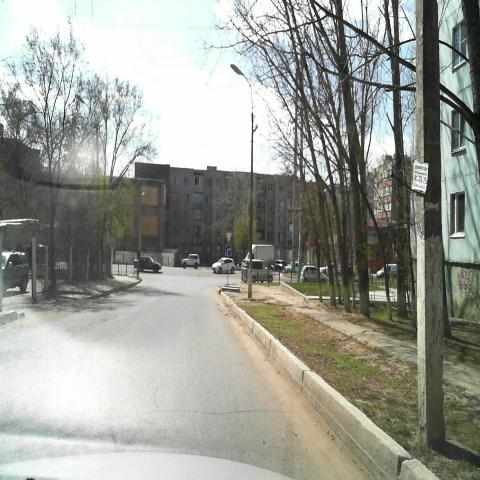4_1_2: (225, 244, 233, 258)
